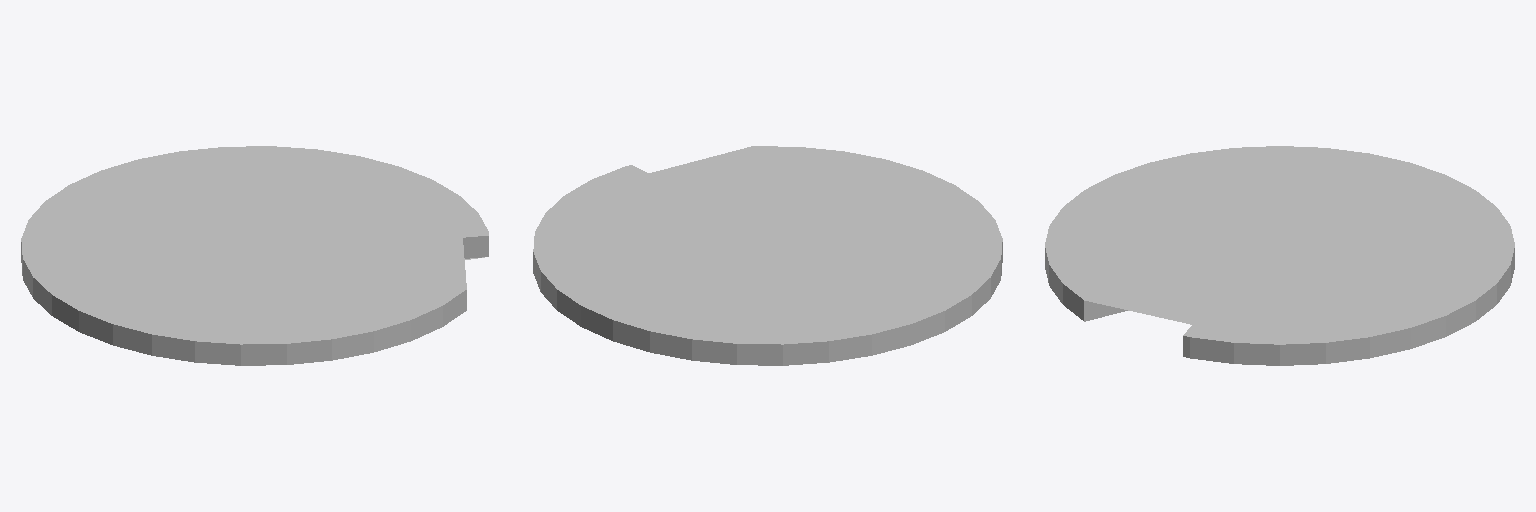
The model's file is vitoria-regia.obj.
The picture shows the model from 3 angles: view 1: azimuth 30°, elevation 25°; view 2: azimuth 150°, elevation 25°; view 3: azimuth 270°, elevation 25°; orthographic projection.
Visible parts, largest first — view 1: Cylinder001; view 2: Cylinder001; view 3: Cylinder001.
Part boxes in pixels (bbox=[...]): Cylinder001: bbox=[21, 146, 488, 365]; Cylinder001: bbox=[533, 146, 1002, 365]; Cylinder001: bbox=[1045, 146, 1514, 365].
Size of the model in its own units: 60 by 3 by 60.